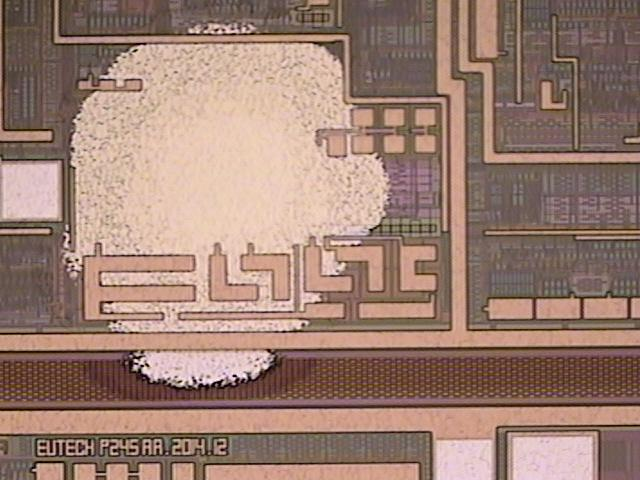BLOCK ETCH: (34, 11, 405, 408)
